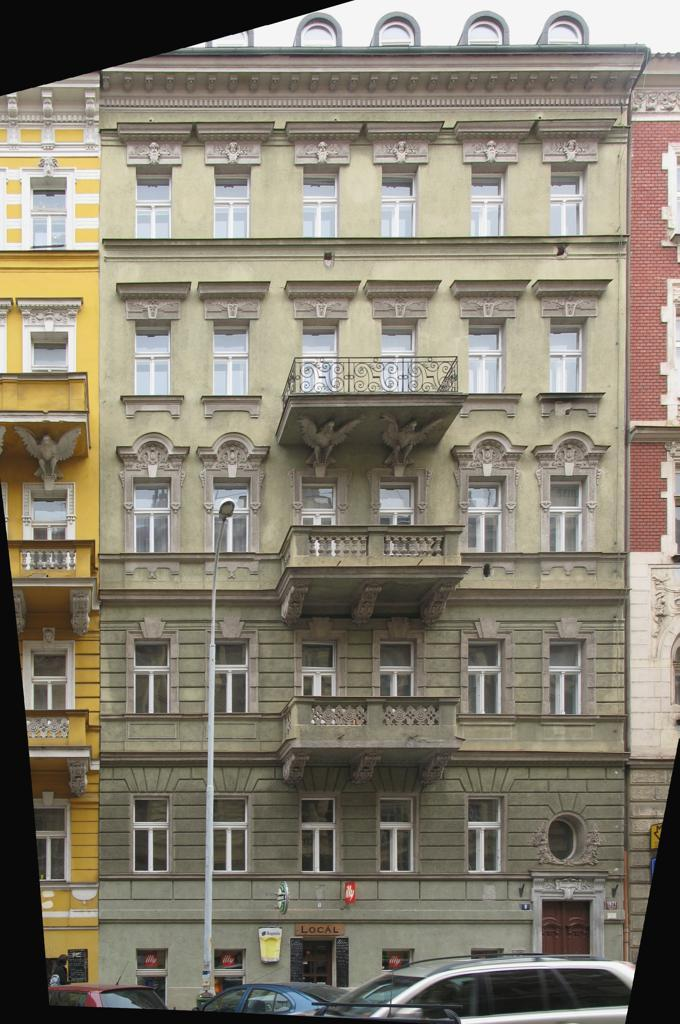window: (468, 475, 507, 553), (379, 795, 417, 873), (550, 317, 588, 394), (469, 317, 507, 394), (211, 796, 249, 873), (133, 478, 171, 554), (550, 475, 587, 553), (301, 796, 338, 874), (212, 638, 250, 713), (214, 164, 252, 238), (214, 477, 251, 553), (549, 639, 586, 715), (136, 319, 172, 397), (381, 318, 418, 393), (303, 318, 340, 393), (28, 806, 66, 879), (135, 796, 170, 875), (382, 164, 419, 238), (551, 162, 588, 236), (136, 164, 172, 240), (134, 638, 170, 714), (469, 639, 505, 715), (469, 795, 504, 873), (214, 319, 249, 396), (304, 164, 340, 238), (472, 162, 508, 236), (31, 178, 67, 250), (302, 637, 339, 696), (380, 638, 416, 697), (33, 648, 67, 710), (380, 476, 417, 526), (30, 490, 66, 541), (302, 476, 338, 526), (548, 814, 586, 861), (31, 331, 67, 373), (380, 16, 417, 48), (301, 18, 338, 48), (212, 19, 250, 48), (468, 16, 504, 46), (547, 16, 584, 45)
